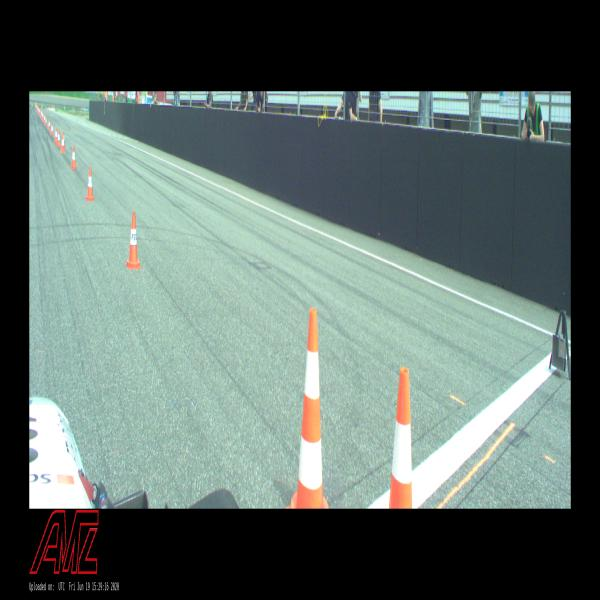large_orange_cone: (285, 308, 336, 508), (390, 365, 412, 508)
orange_cone: (126, 213, 141, 269), (85, 167, 94, 201), (70, 146, 77, 169), (60, 132, 65, 154), (56, 130, 61, 147), (50, 122, 54, 136), (54, 127, 57, 144), (63, 129, 65, 148), (48, 118, 51, 130), (45, 116, 47, 127), (43, 113, 45, 122)
